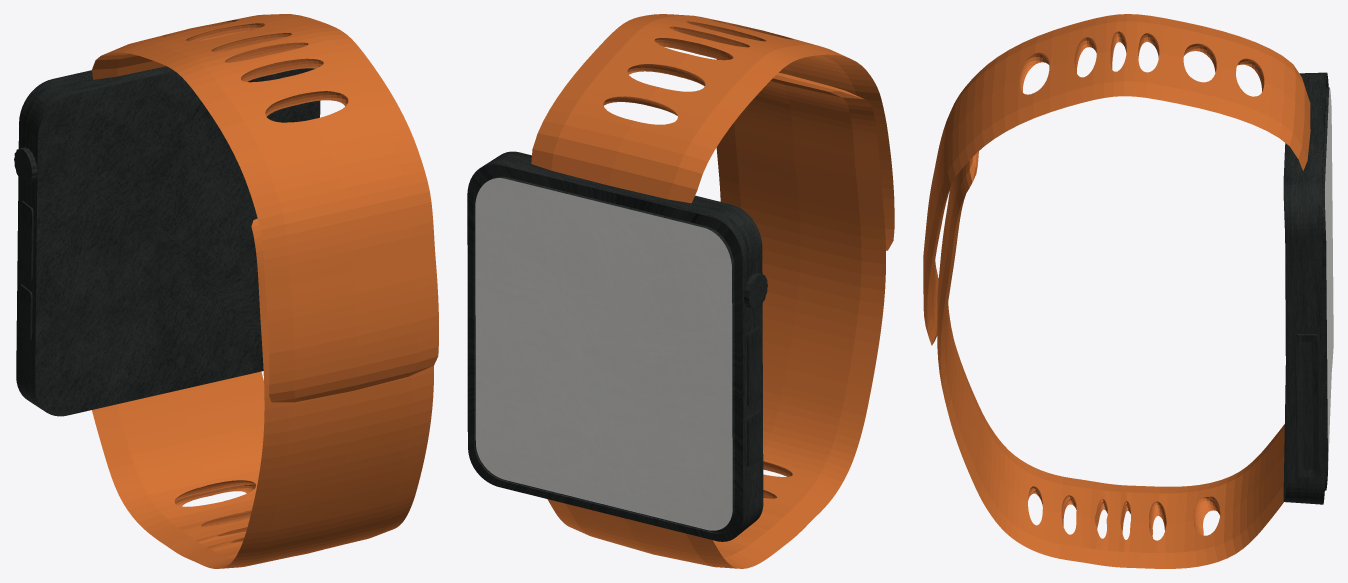
The model's file is WATCH.fbx.
3 renders of one model, left to right at view 1: azimuth 30°, elevation 25°; view 2: azimuth 150°, elevation 25°; view 3: azimuth 270°, elevation 25°, orthographic.
Visible parts, largest first — view 1: Cube; view 2: Cube; view 3: Cube.
Boxes of the visible parts, x1,y1,x2,y2 form: Cube: (14,14,438,568); Cube: (467,14,894,568); Cube: (923,14,1333,568).
Size of the model in its own units: 170 by 276 by 212.
3 materials, 3 textured.
